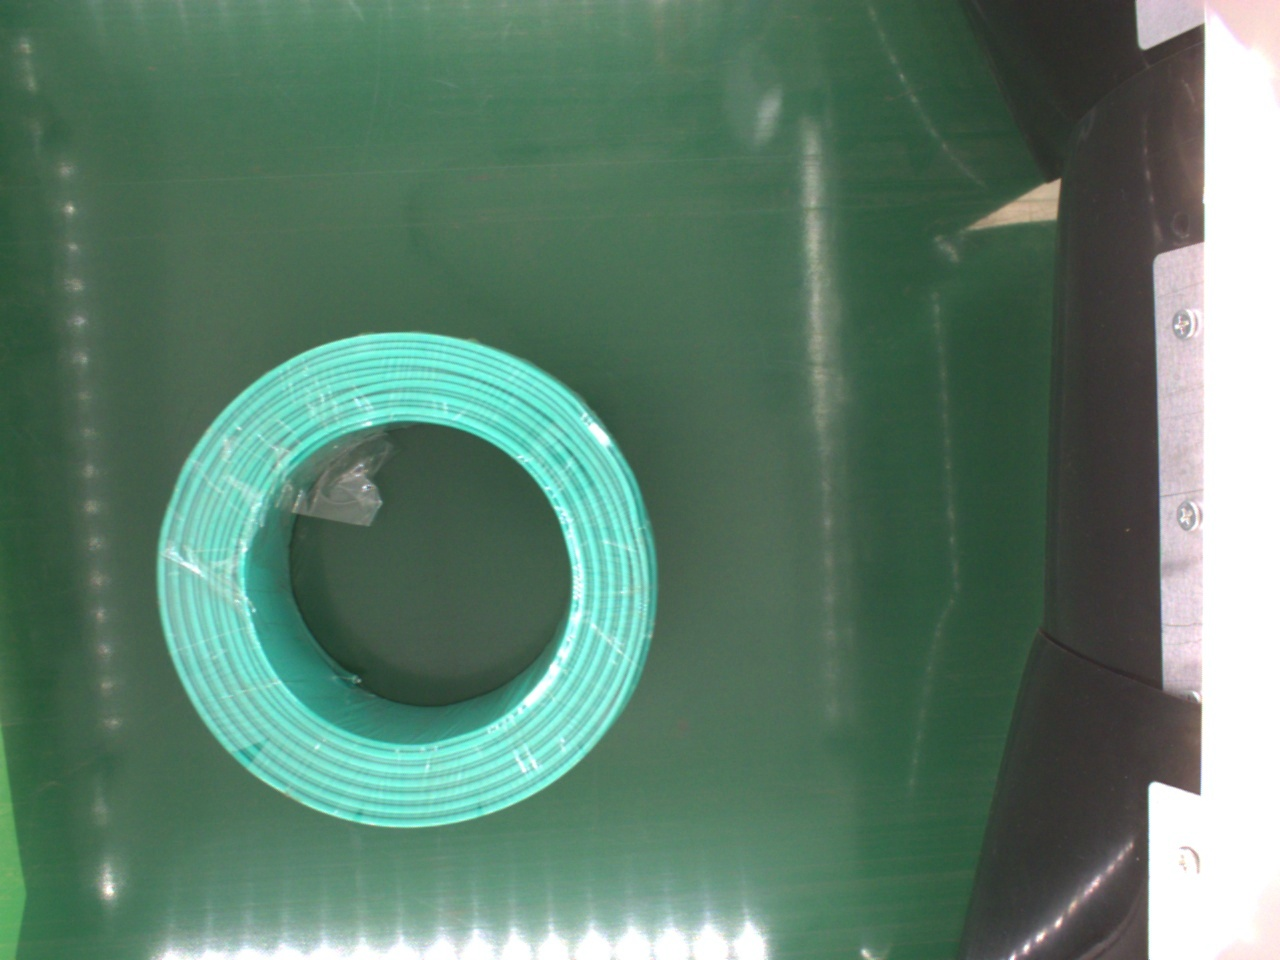green: (150, 330, 657, 833)
